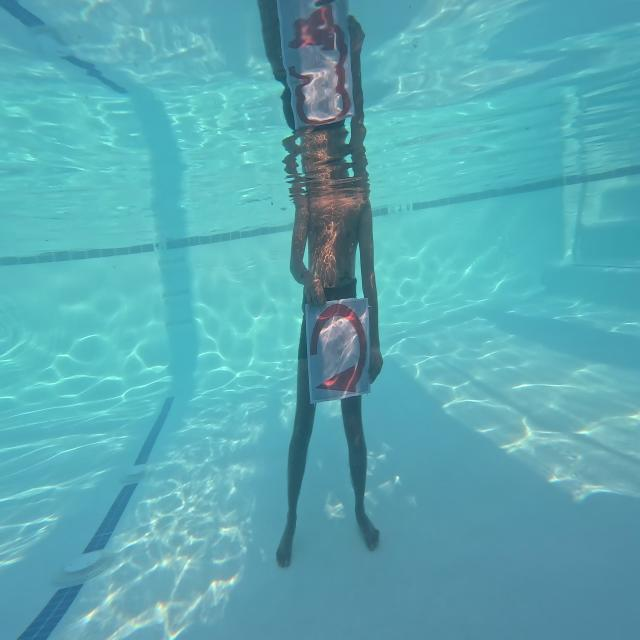red_side: (302, 300, 376, 406)
